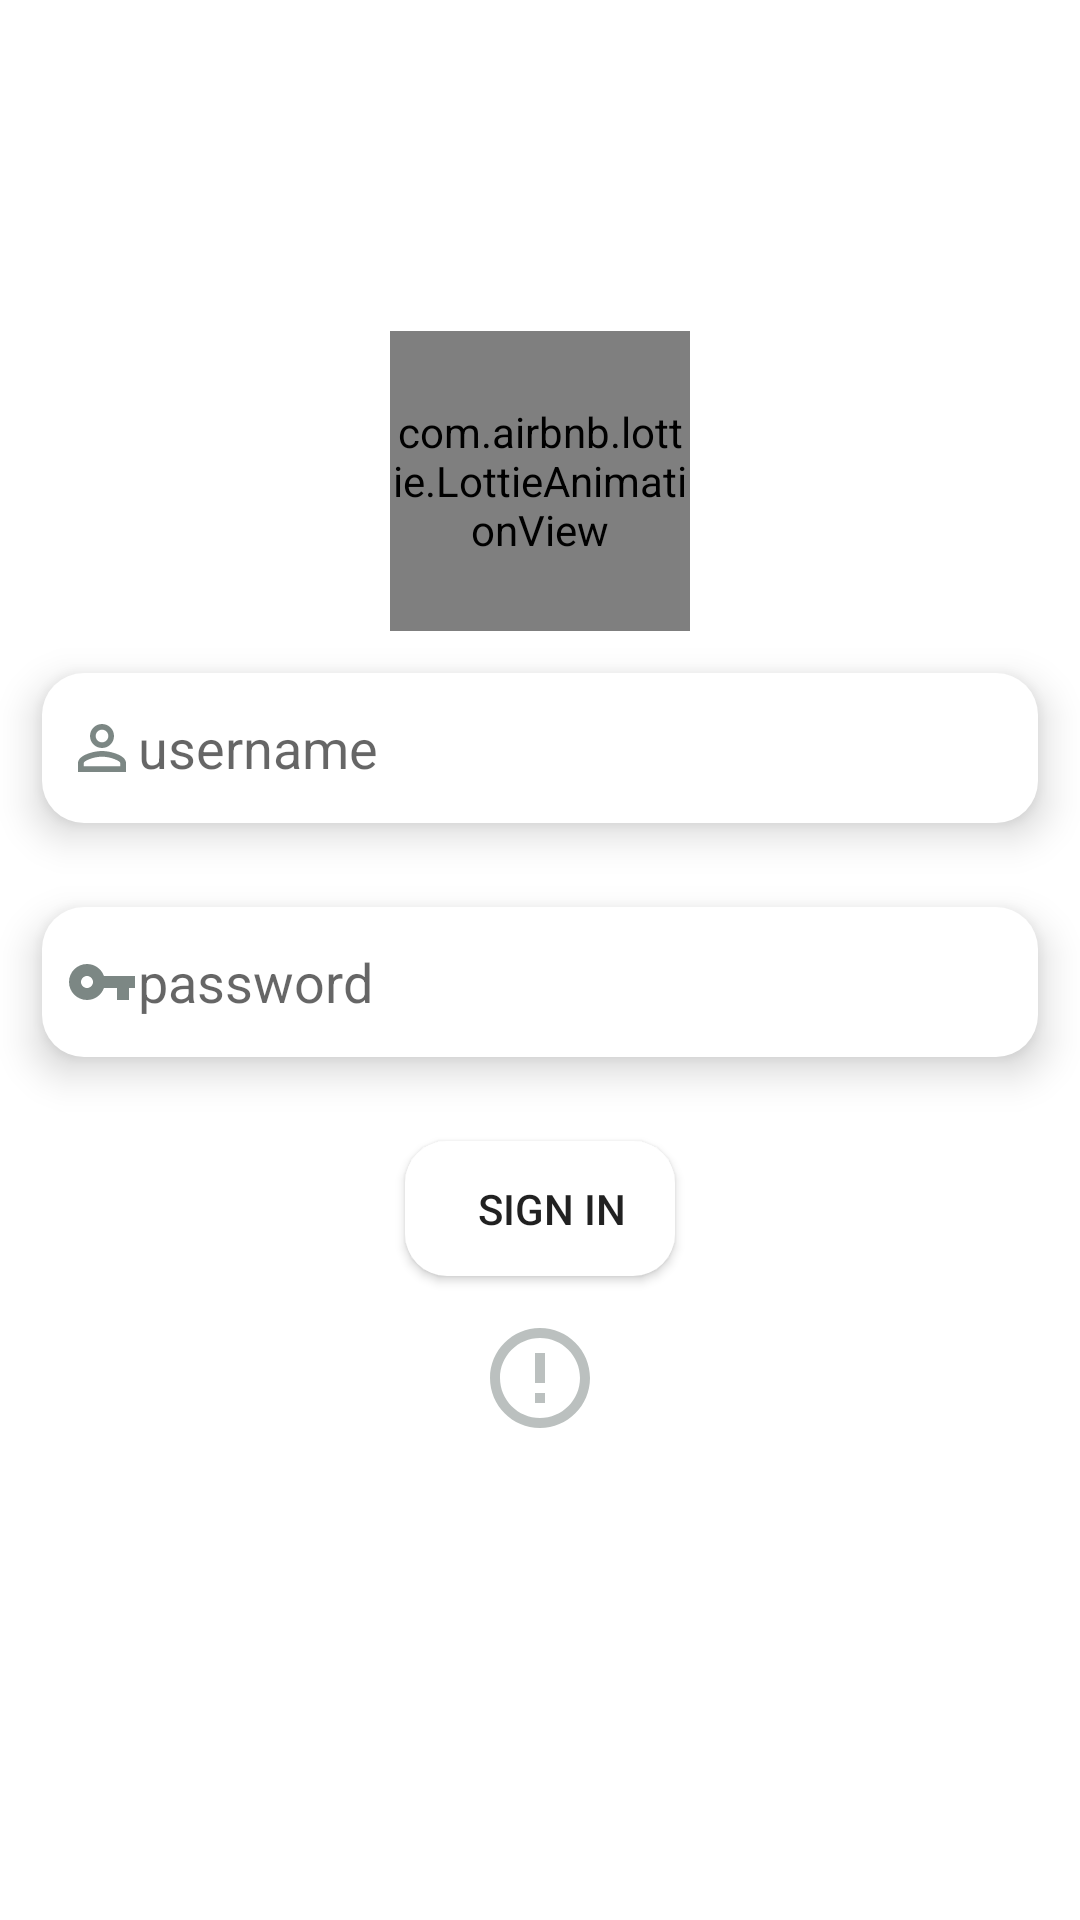

Screen size 1080x1920. Icon name, then its center in pixels as [x,y]:
erroroutline: [540,1378]
